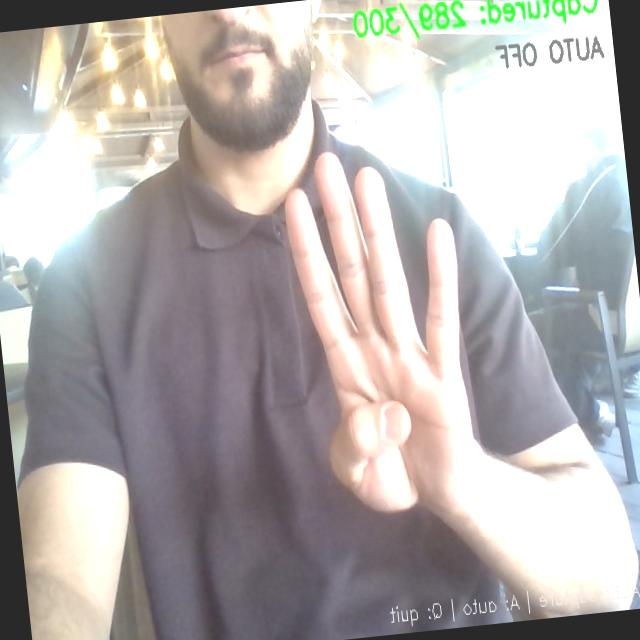Hand: (285, 154, 480, 515)
